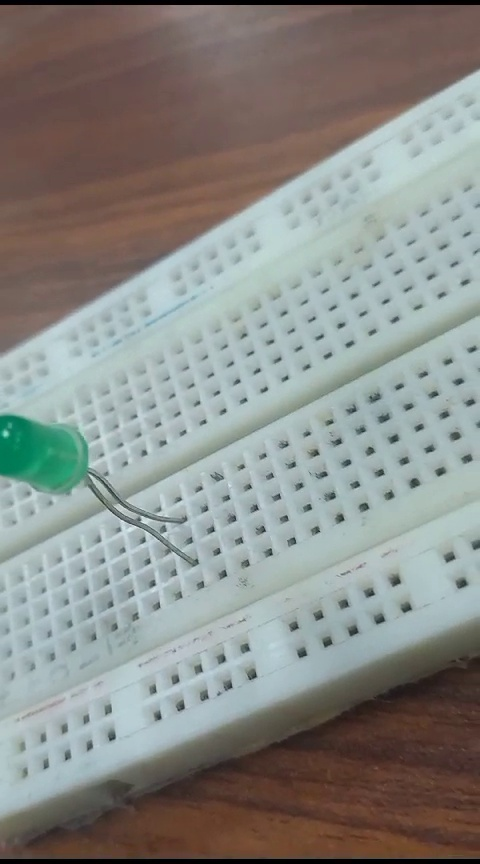LED: (1, 399, 186, 565)
